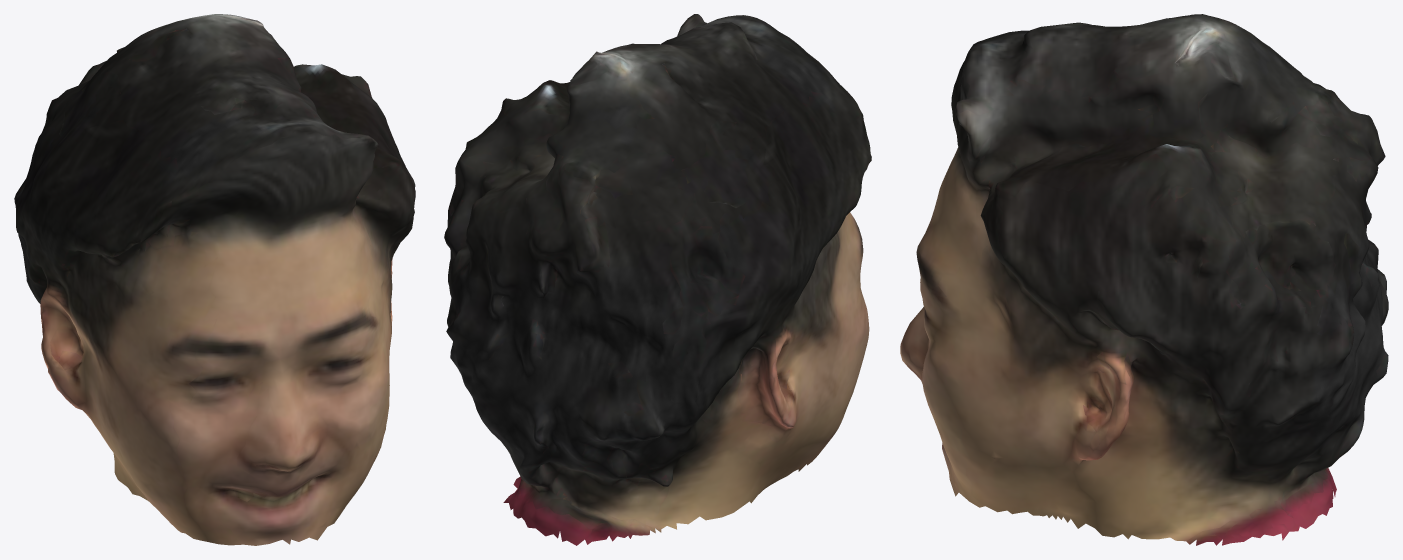
Rendered from toda_cabeza.glb.
3 renders of one model, left to right at view 1: azimuth 30°, elevation 25°; view 2: azimuth 150°, elevation 25°; view 3: azimuth 270°, elevation 25°, orthographic. The views are drawn at different scales.
Parts seen in each view (by area): view 1: cabeza; view 2: cabeza; view 3: cabeza.
Boxes of the visible parts, x1=… form: cabeza: x1=14, y1=14, x2=415, y2=545; cabeza: x1=444, y1=14, x2=871, y2=545; cabeza: x1=900, y1=14, x2=1388, y2=545.
Size of the model in its own units: 2.05 by 2.54 by 2.39.
Materials: 1 (1 with a texture image).
